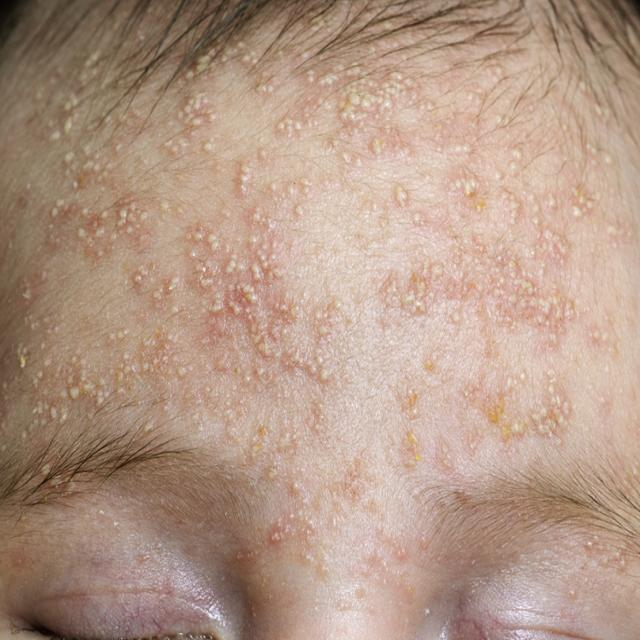fungal: (10, 72, 324, 428), (329, 68, 595, 445), (212, 432, 422, 603), (574, 522, 632, 604)
